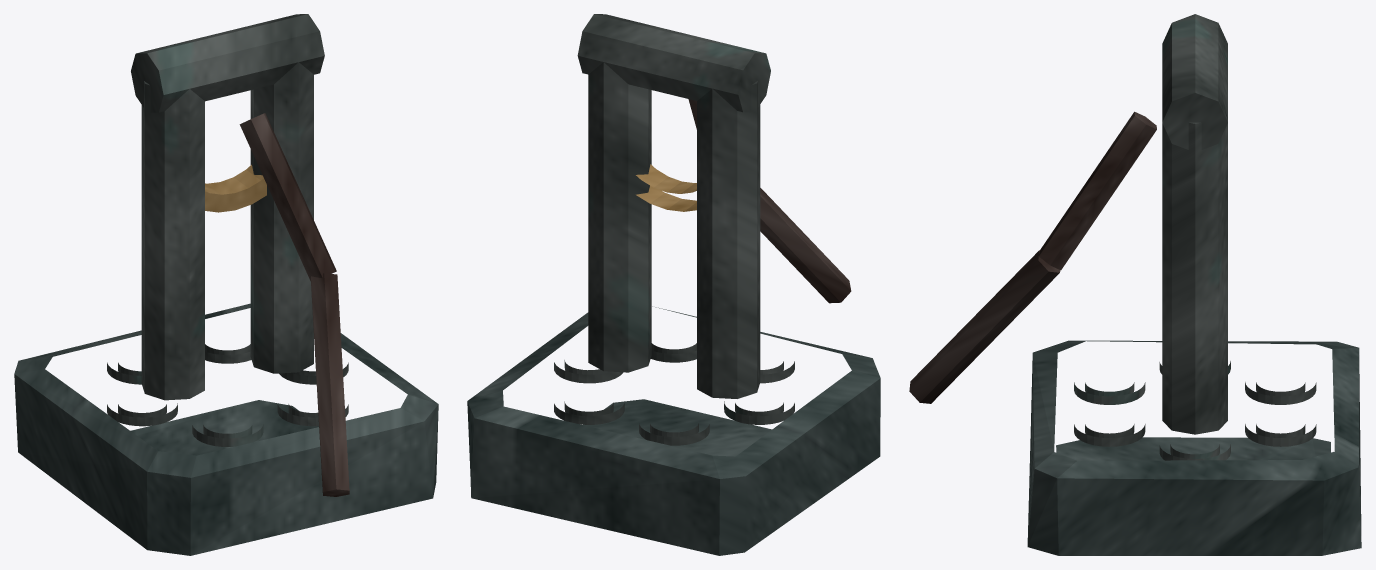
Rendered from 0680_rope_anchor_05.glb.
The picture shows the model from 3 angles, left to right: view 1: azimuth 30°, elevation 25°; view 2: azimuth 150°, elevation 25°; view 3: azimuth 270°, elevation 25°; orthographic projection.
Visible parts, largest first — view 1: iron, stone_dark, wood_dark, brass; view 2: iron, stone_dark, wood_dark, brass; view 3: stone_dark, iron, wood_dark.
Boxes of the visible parts, x1,y1,x2,y2 form: iron: [107, 14, 348, 446]; stone_dark: [14, 303, 438, 555]; wood_dark: [239, 113, 349, 496]; brass: [205, 164, 266, 212]; iron: [554, 14, 794, 445]; stone_dark: [467, 306, 880, 555]; wood_dark: [688, 99, 851, 303]; brass: [636, 164, 696, 211]; stone_dark: [1027, 340, 1361, 555]; iron: [1074, 14, 1316, 460]; wood_dark: [909, 111, 1156, 403].
Bounding box in the file's own units: 1.21 × 1.78 × 1.65.
4 materials, 4 textured.
